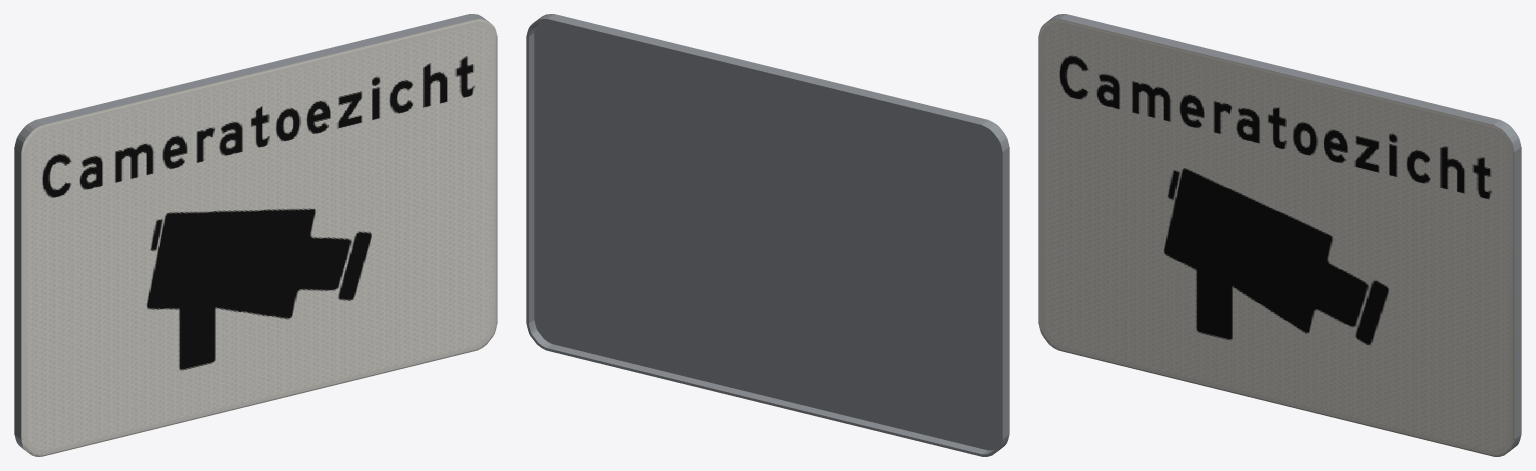
3 renders of one model, left to right at view 1: azimuth 30°, elevation 25°; view 2: azimuth 150°, elevation 25°; view 3: azimuth 330°, elevation 25°, orthographic.
Visible parts, largest first — view 1: cat_f05139e98547aa08; view 2: cat_f05139e98547aa08; view 3: cat_f05139e98547aa08.
Boxes of the visible parts, x1,y1,x2,y2 form: cat_f05139e98547aa08: [14, 14, 497, 456]; cat_f05139e98547aa08: [526, 14, 1009, 456]; cat_f05139e98547aa08: [1038, 14, 1521, 456].
Bounding box in the file's own units: 0.6 × 0.015 × 0.3995.
2 materials, 1 textured.
